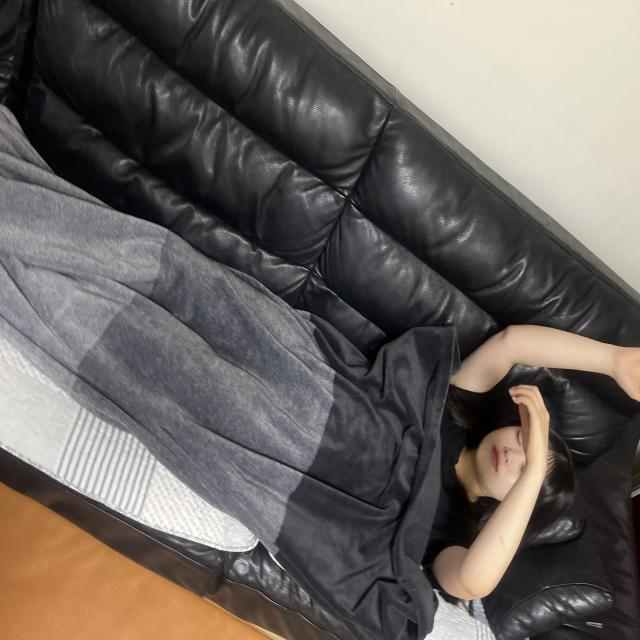sleeping-person: (1, 85, 640, 640)
